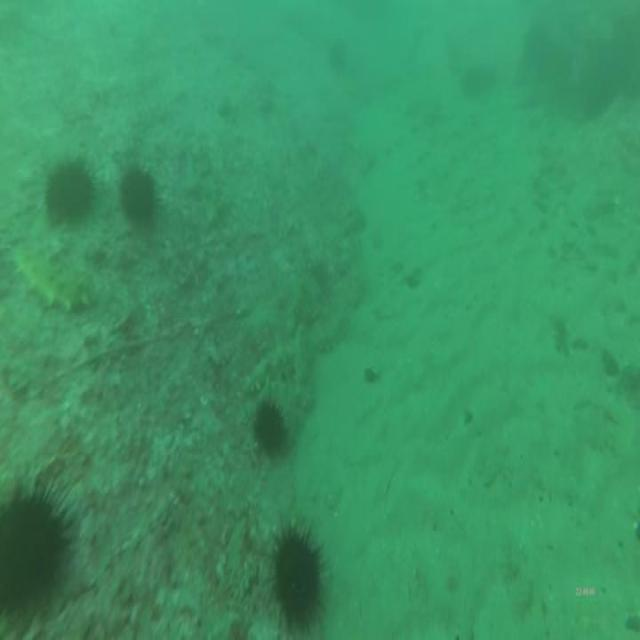echinus: (0, 466, 74, 626), (268, 521, 330, 640), (42, 153, 100, 234), (115, 155, 161, 234), (254, 395, 289, 463)
holothurian: (12, 243, 97, 320), (238, 334, 296, 402), (260, 380, 302, 442), (310, 297, 353, 354), (292, 319, 316, 408)
